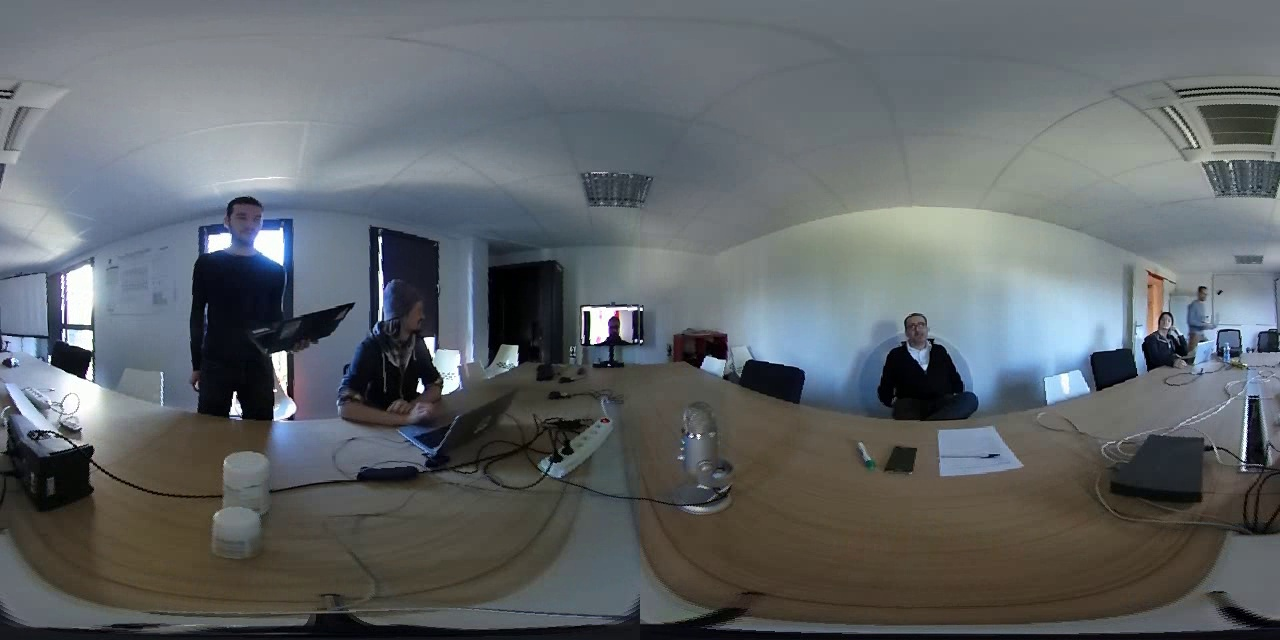person: (188, 180, 297, 407), (865, 303, 988, 421), (349, 282, 449, 422), (1141, 298, 1188, 365), (1186, 276, 1219, 349), (585, 306, 640, 344)
